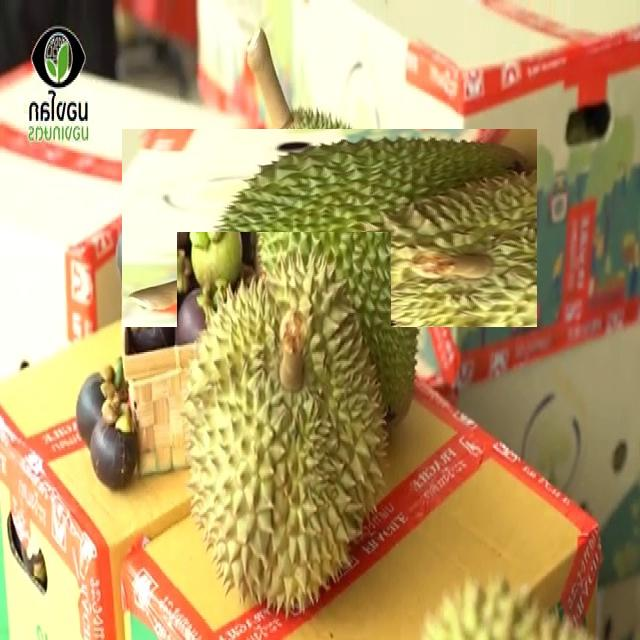durian: (176, 75, 483, 381), (177, 232, 390, 621)
